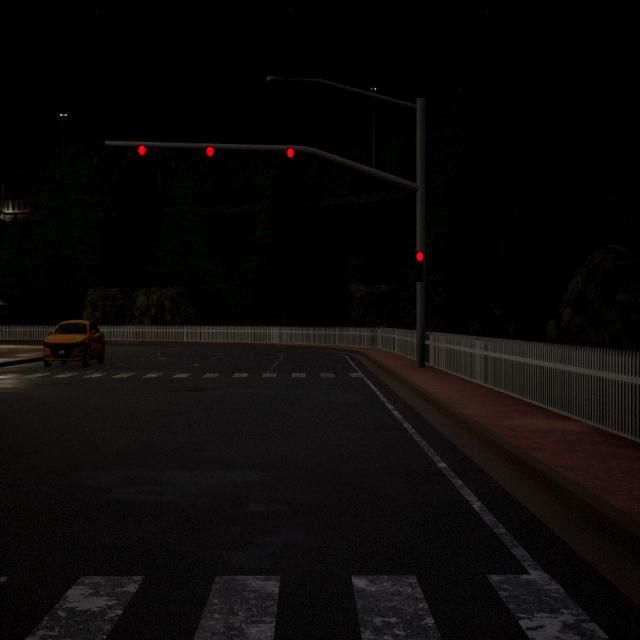Vehicle: (43, 319, 106, 366)
traffic_light: (414, 251, 424, 279), (205, 144, 214, 156), (286, 148, 295, 160), (138, 144, 146, 157)
